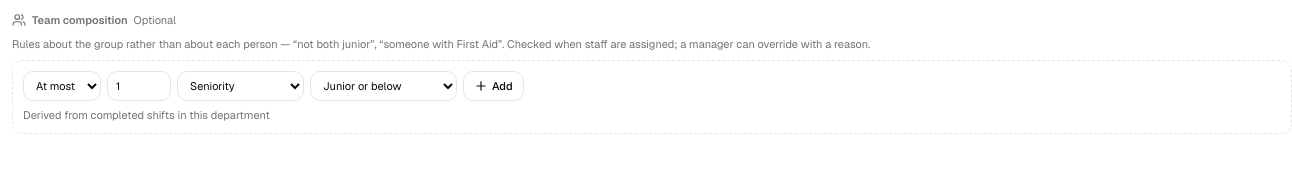
Test case: CompositionRulesEditor › refuses an at_least rule with a count of zero
Select "At least" in the dropdown named "Comparator": (62, 86) [23,71,101,101]
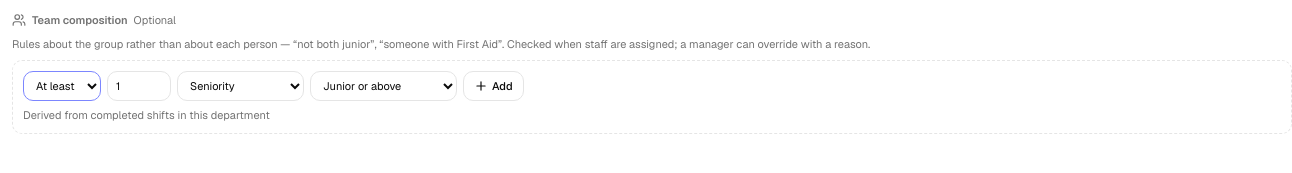
Replace the text in the number field named "How many assignees" with "0": (139, 86) [107,71,171,101]
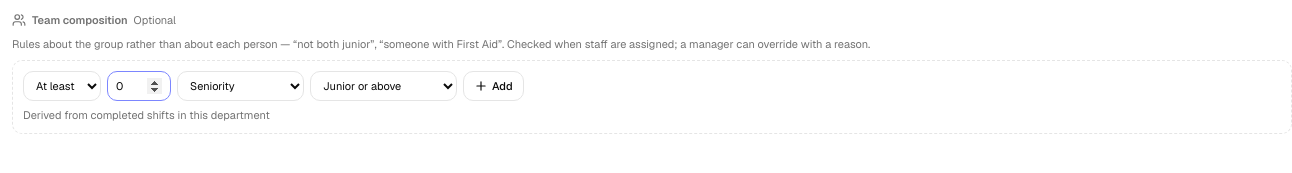
Click the button "Add": click(493, 86) [463,71,524,101]
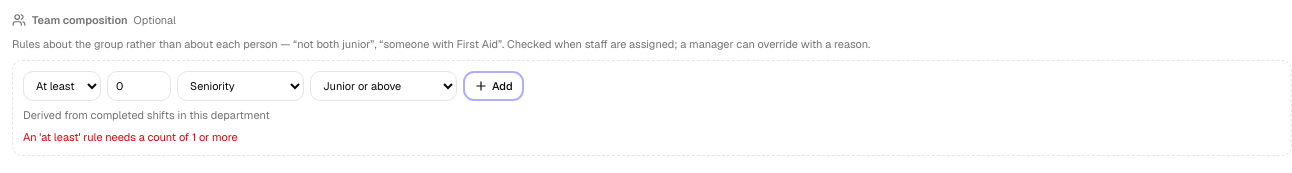
Expected: the message shows "count of 1 or more", [23,130,238,144]
